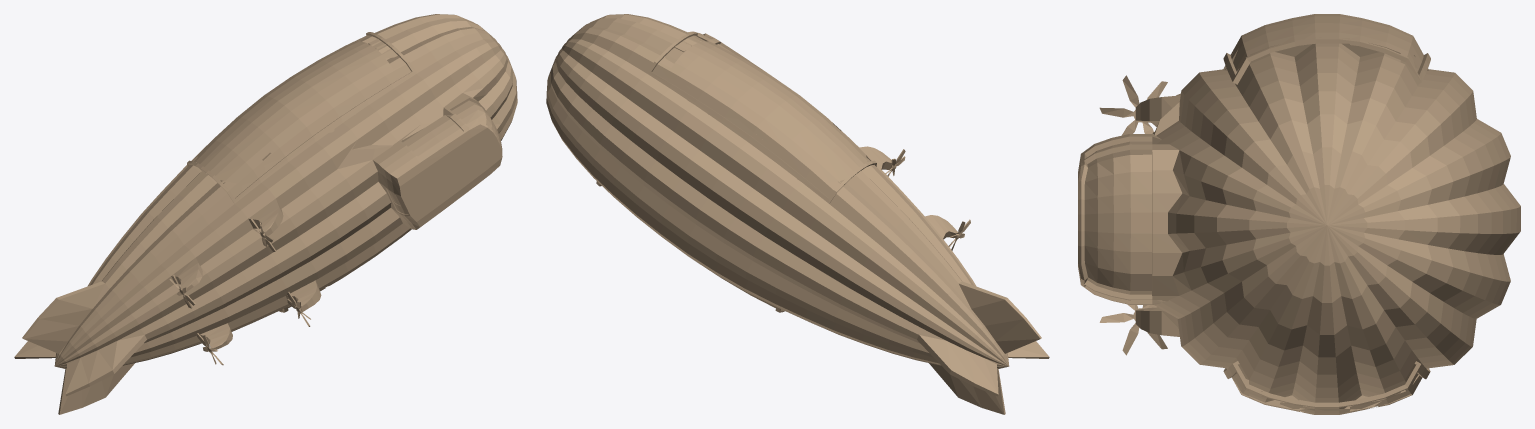
Rendered from Stunning Inari.glb.
3 views of the same model, side by side, from view 1: azimuth 30°, elevation 25°; view 2: azimuth 150°, elevation 25°; view 3: azimuth 270°, elevation 25° (orthographic). The views are drawn at different scales.
Visible parts, largest first — view 1: Mesh_Mesh_head_geo.001_lambert2SG.001; view 2: Mesh_Mesh_head_geo.001_lambert2SG.001; view 3: Mesh_Mesh_head_geo.001_lambert2SG.001.
Boxes of the visible parts, bbox=[...] form: Mesh_Mesh_head_geo.001_lambert2SG.001: bbox=[14, 14, 517, 414]; Mesh_Mesh_head_geo.001_lambert2SG.001: bbox=[546, 14, 1049, 414]; Mesh_Mesh_head_geo.001_lambert2SG.001: bbox=[1078, 14, 1520, 414].
Size of the model in its own units: 724 by 428 by 287.
